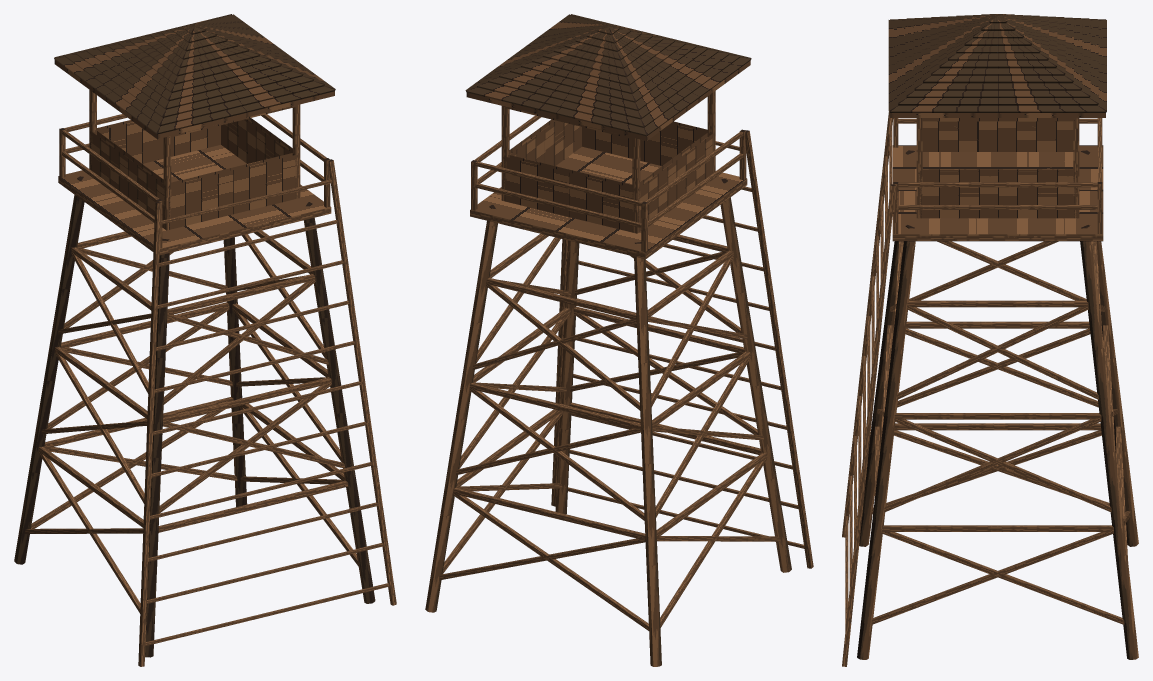
Rendered from MAD-02_Torre_de_vigia.gltf.
3 renders of one model, left to right at view 1: azimuth 30°, elevation 25°; view 2: azimuth 150°, elevation 25°; view 3: azimuth 270°, elevation 25°, orthographic. The views are drawn at different scales.
Visible parts, largest first — view 1: MAD-02_Torre_de_vigia-col; view 2: MAD-02_Torre_de_vigia-col; view 3: MAD-02_Torre_de_vigia-col.
Part boxes in pixels (bbox=[...]): MAD-02_Torre_de_vigia-col: bbox=[14, 14, 396, 666]; MAD-02_Torre_de_vigia-col: bbox=[425, 14, 813, 666]; MAD-02_Torre_de_vigia-col: bbox=[842, 14, 1138, 666].
Bounding box in the file's own units: 5.77 × 11.97 × 5.49.
Materials: 1 (1 with a texture image).
